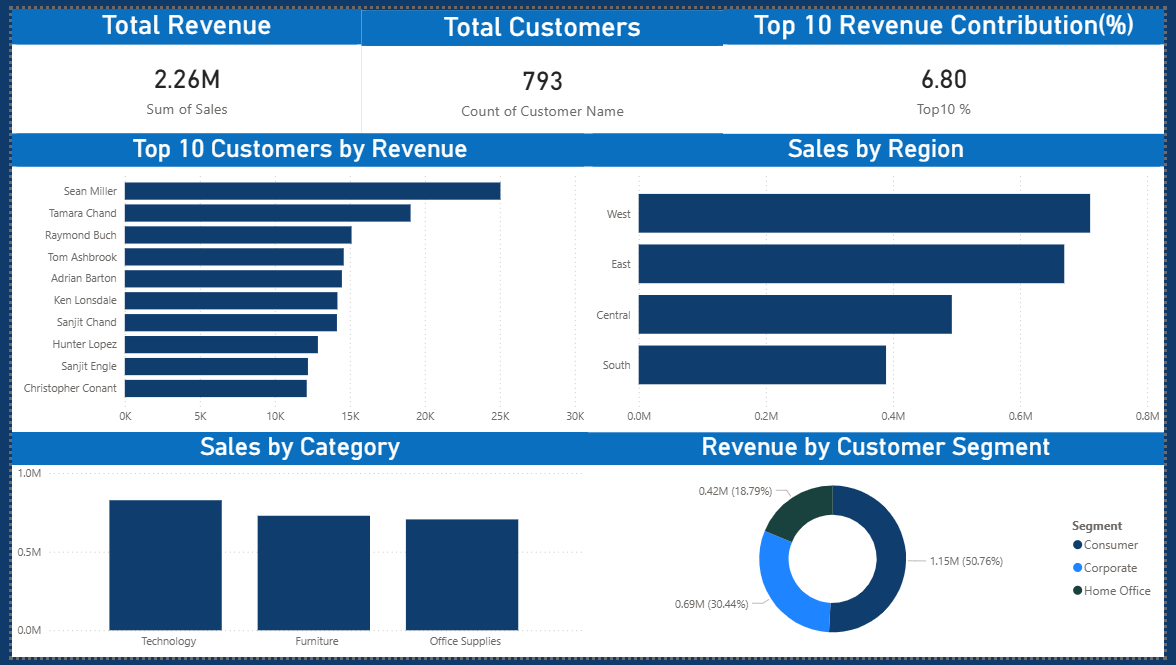

The dashboard page shown, as its layout file describes it:
{"tool":"powerbi","page":{"name":"Page 1","canvas":[1280,720],"ordinal":0},"visuals":[{"type":"card","title":"Total Revenue","fields":{"Values":["Sum(train.Sales)"]},"box":[0,0,388.3,138.3],"z":0},{"type":"card","title":"Total Customers","fields":{"Values":["Count(train.Customer Name)"]},"box":[388.3,1.7,401.7,138.3],"z":1},{"type":"clusteredBarChart","title":"Top 10 Customers by Revenue","fields":{"Category":["train.Customer Name"],"Y":["Sum(train.Sales)"]},"box":[0,138.3,640,331.7],"z":2},{"type":"donutChart","title":"Revenue by Customer Segment","fields":{"Category":["train.Segment"],"Y":["Sum(train.Sales)"]},"box":[640,470,640,250],"z":5},{"type":"clusteredBarChart","title":"Sales by Region","fields":{"Category":["train.Region"],"Y":["Sum(train.Sales)"]},"box":[640,138.3,640,331.7],"z":6},{"type":"clusteredColumnChart","title":"Sales by Category","fields":{"Category":["train.Category"],"Y":["Sum(train.Sales)"]},"box":[0,470,640,250],"z":7},{"type":"card","title":"Top 10 Revenue Contribution(%)","fields":{"Values":["train.Top10 %"]},"box":[790,0,490,138.3],"z":8}]}

Visuals, with their boxes in screenshot pixels (x1, y1, x2, y2), scaled from the page's 1280x720 canvas onto the 1176x665 screenshot:
"Total Revenue" card: rect(0, 0, 357, 128)
"Total Customers" card: rect(357, 2, 726, 129)
"Top 10 Customers by Revenue" clusteredBarChart: rect(0, 128, 588, 434)
"Revenue by Customer Segment" donutChart: rect(588, 434, 1175, 664)
"Sales by Region" clusteredBarChart: rect(588, 128, 1175, 434)
"Sales by Category" clusteredColumnChart: rect(0, 434, 588, 664)
"Top 10 Revenue Contribution(%)" card: rect(726, 0, 1175, 128)
